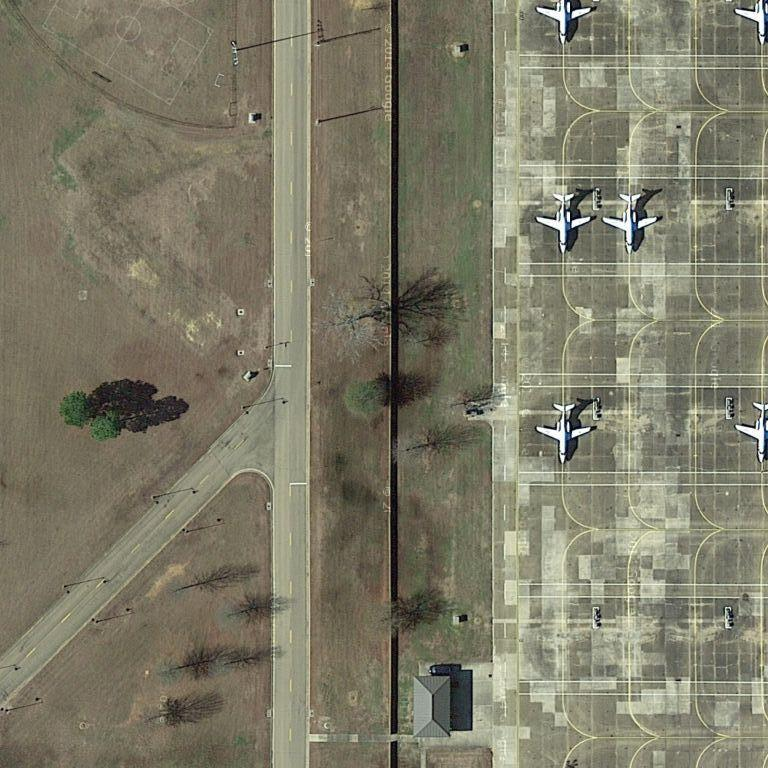plane: (535, 189, 595, 257), (536, 399, 595, 466), (604, 187, 657, 260), (533, 2, 595, 46), (734, 392, 767, 467)
